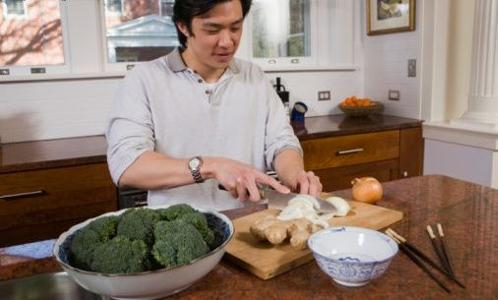person: (106, 2, 325, 214)
